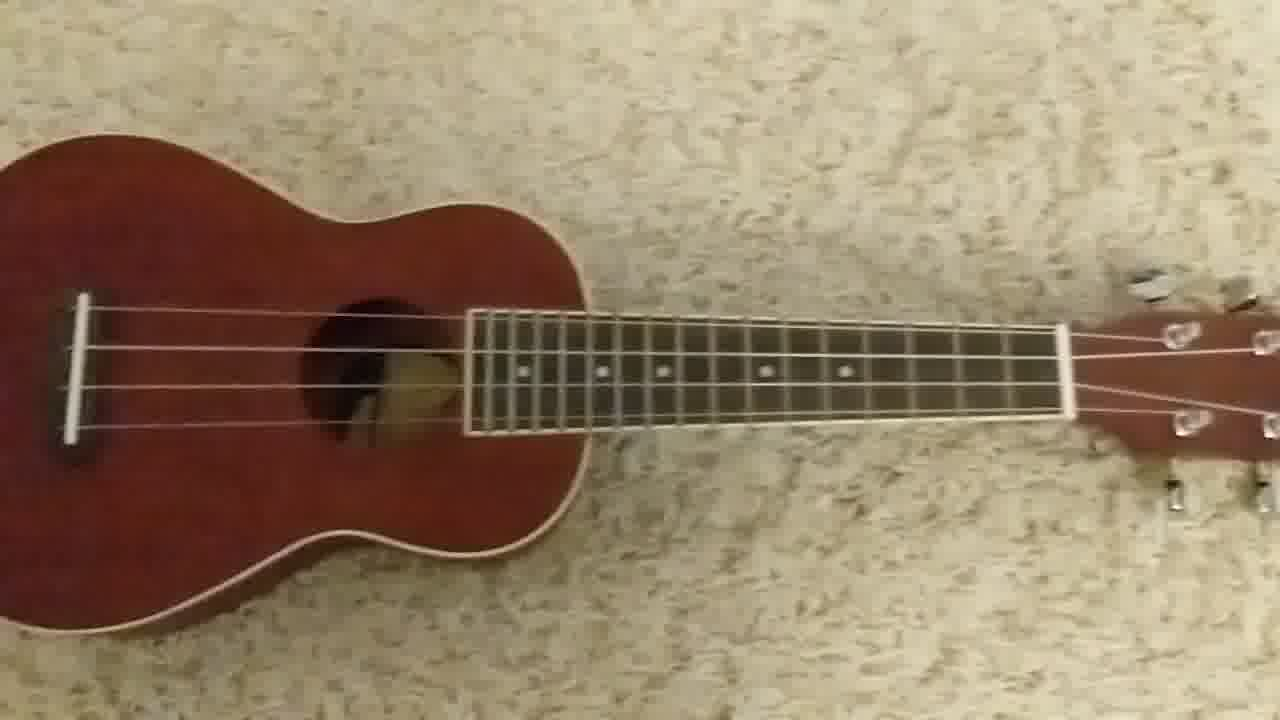Body: (1, 133, 596, 641)
Bridge: (53, 285, 106, 452)
Headstock: (1070, 263, 1280, 514)
